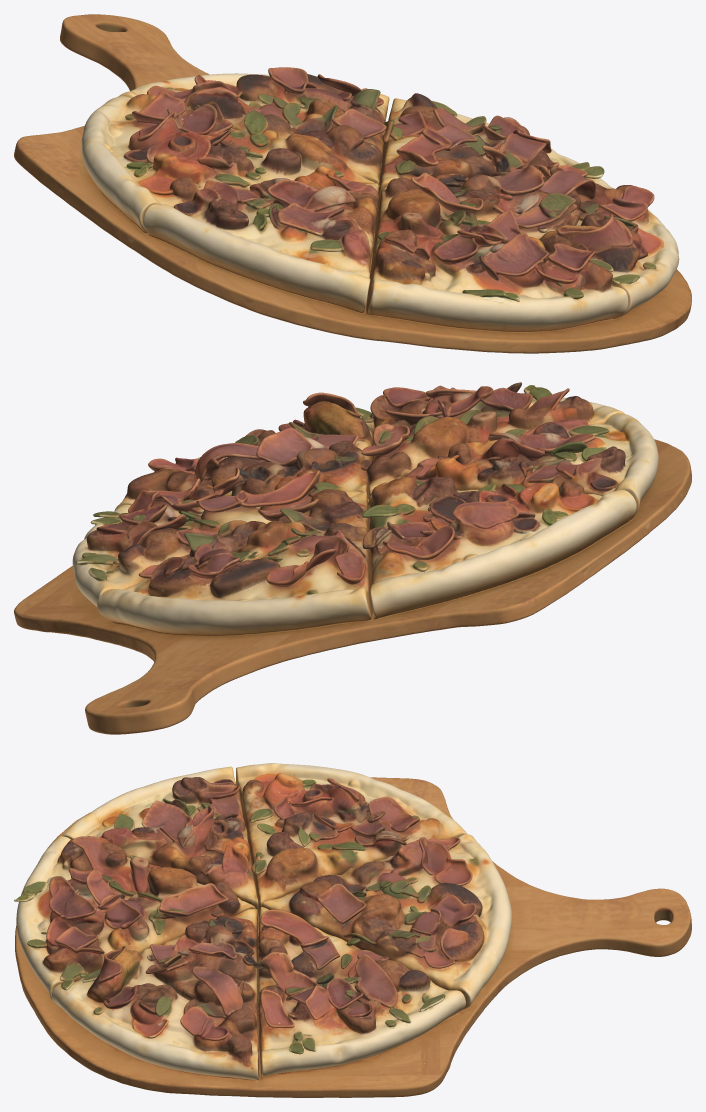
Rendered from pizza.glb.
The picture shows the model from 3 angles, top to bottom: view 1: azimuth 30°, elevation 25°; view 2: azimuth 150°, elevation 25°; view 3: azimuth 270°, elevation 25°; orthographic projection. The views are drawn at different scales.
Parts seen in each view (by area): view 1: tripo_node_cb396d9e-ed46-40cd-8f2d-0175b5103d3e; view 2: tripo_node_cb396d9e-ed46-40cd-8f2d-0175b5103d3e; view 3: tripo_node_cb396d9e-ed46-40cd-8f2d-0175b5103d3e.
Boxes of the visible parts, x1,y1,x2,y2 form: tripo_node_cb396d9e-ed46-40cd-8f2d-0175b5103d3e: (14, 14, 691, 353); tripo_node_cb396d9e-ed46-40cd-8f2d-0175b5103d3e: (14, 382, 691, 734); tripo_node_cb396d9e-ed46-40cd-8f2d-0175b5103d3e: (14, 763, 691, 1097).
Bounding box in the file's own units: 0.7194 × 0.2436 × 1.
1 material, 1 textured.
